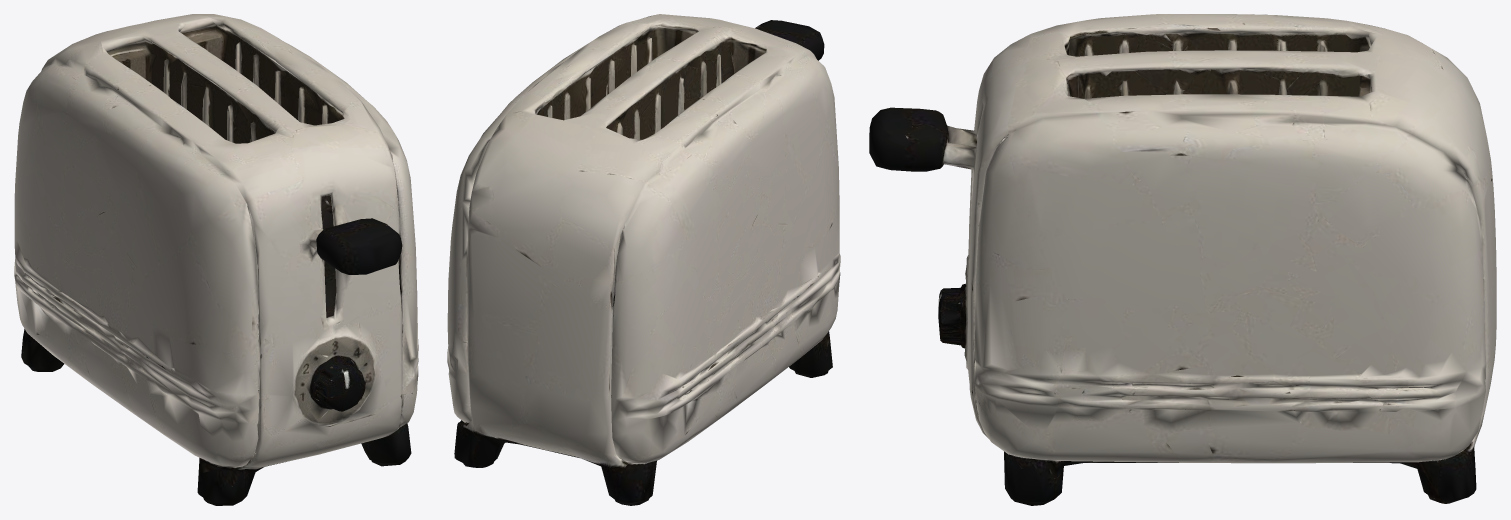
File: k_toaster.glb
3 views of the same model, side by side, from view 1: azimuth 30°, elevation 25°; view 2: azimuth 150°, elevation 25°; view 3: azimuth 270°, elevation 25° (orthographic). The views are drawn at different scales.
Size of the model in its own units: 0.9323 by 1.32 by 1.9.
1 material, 1 textured.
